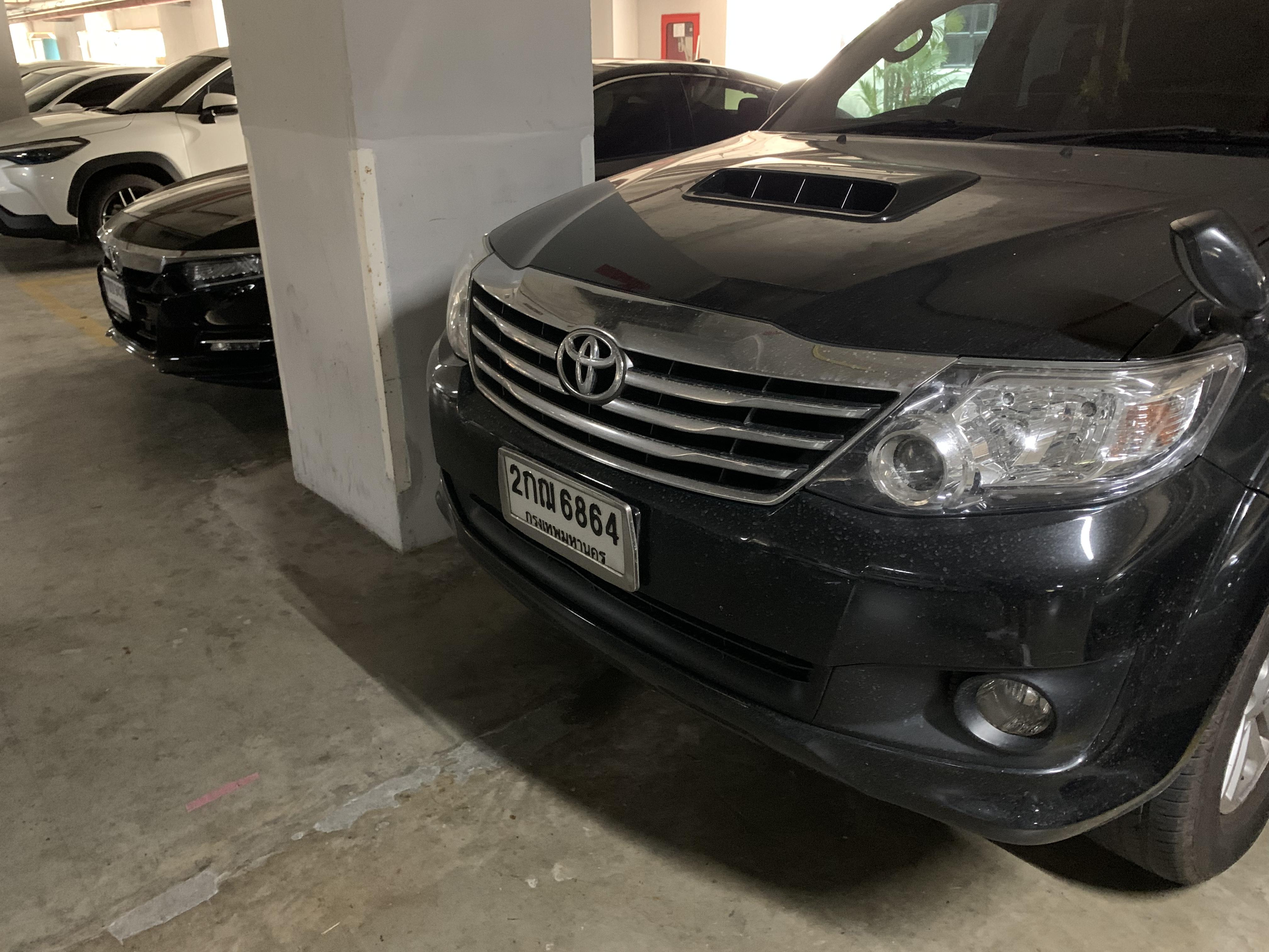license-plate: (492, 442, 642, 596), (100, 269, 136, 323)
